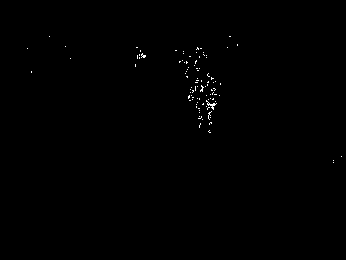person: (187, 67, 221, 135)
